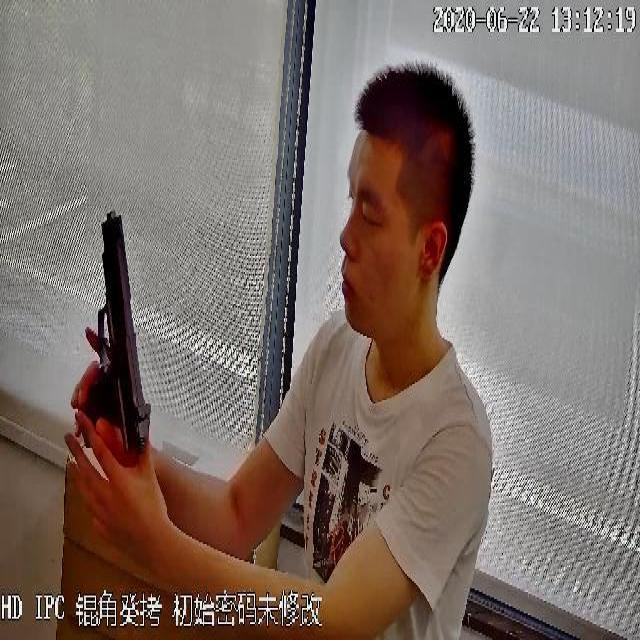pistol: (80, 210, 152, 452)
